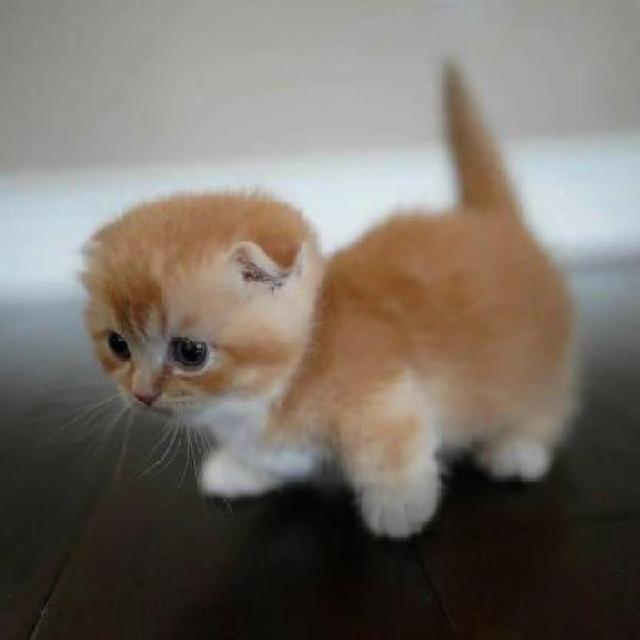cat: (77, 161, 592, 536)
